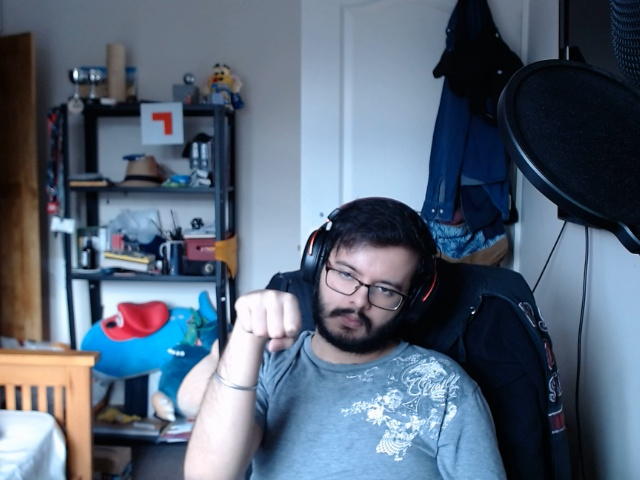Yes: (234, 282, 308, 342)
